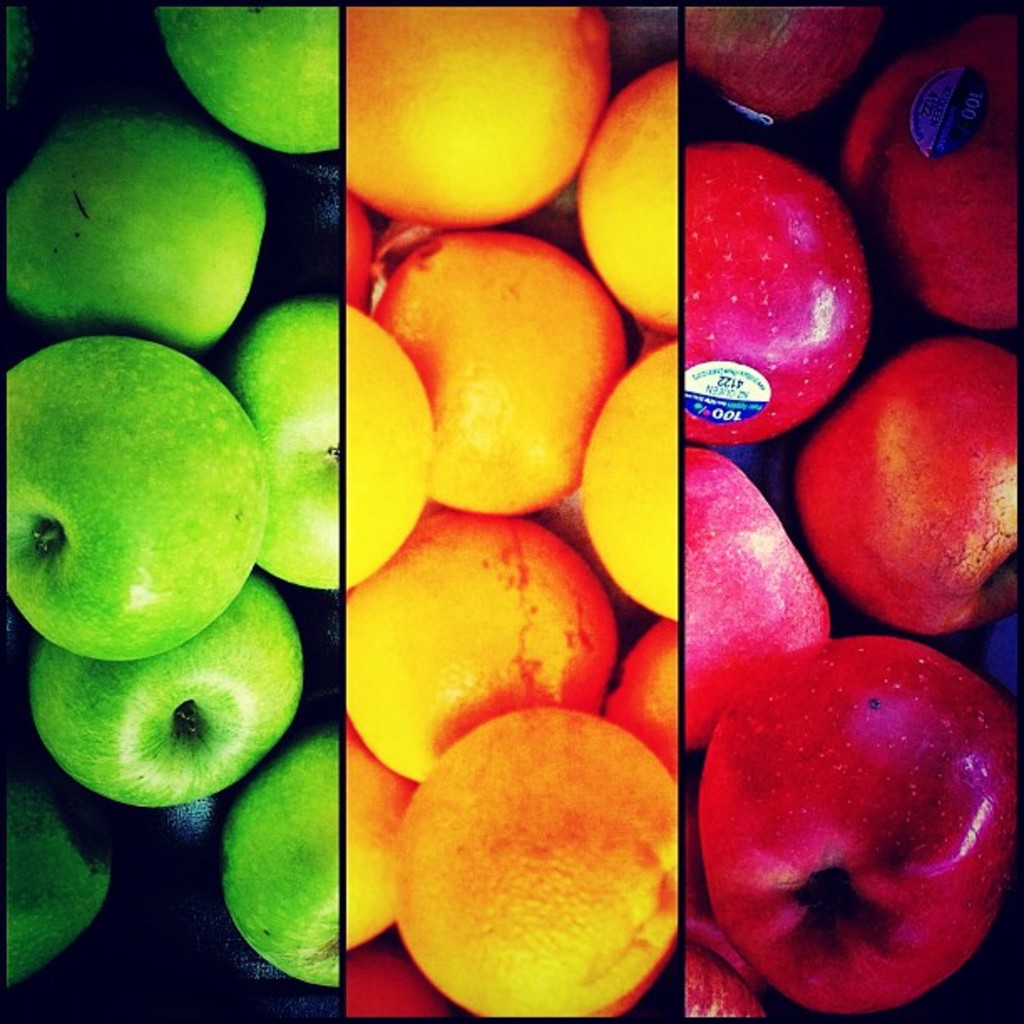Apple: (680, 3, 1017, 1020), (1, 0, 344, 997)
